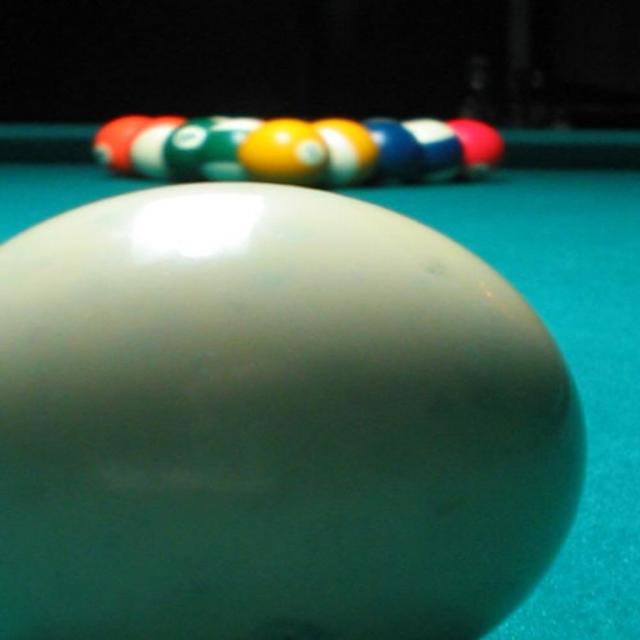Ball: (0, 115, 589, 640)
Billiard table: (0, 114, 640, 640)
